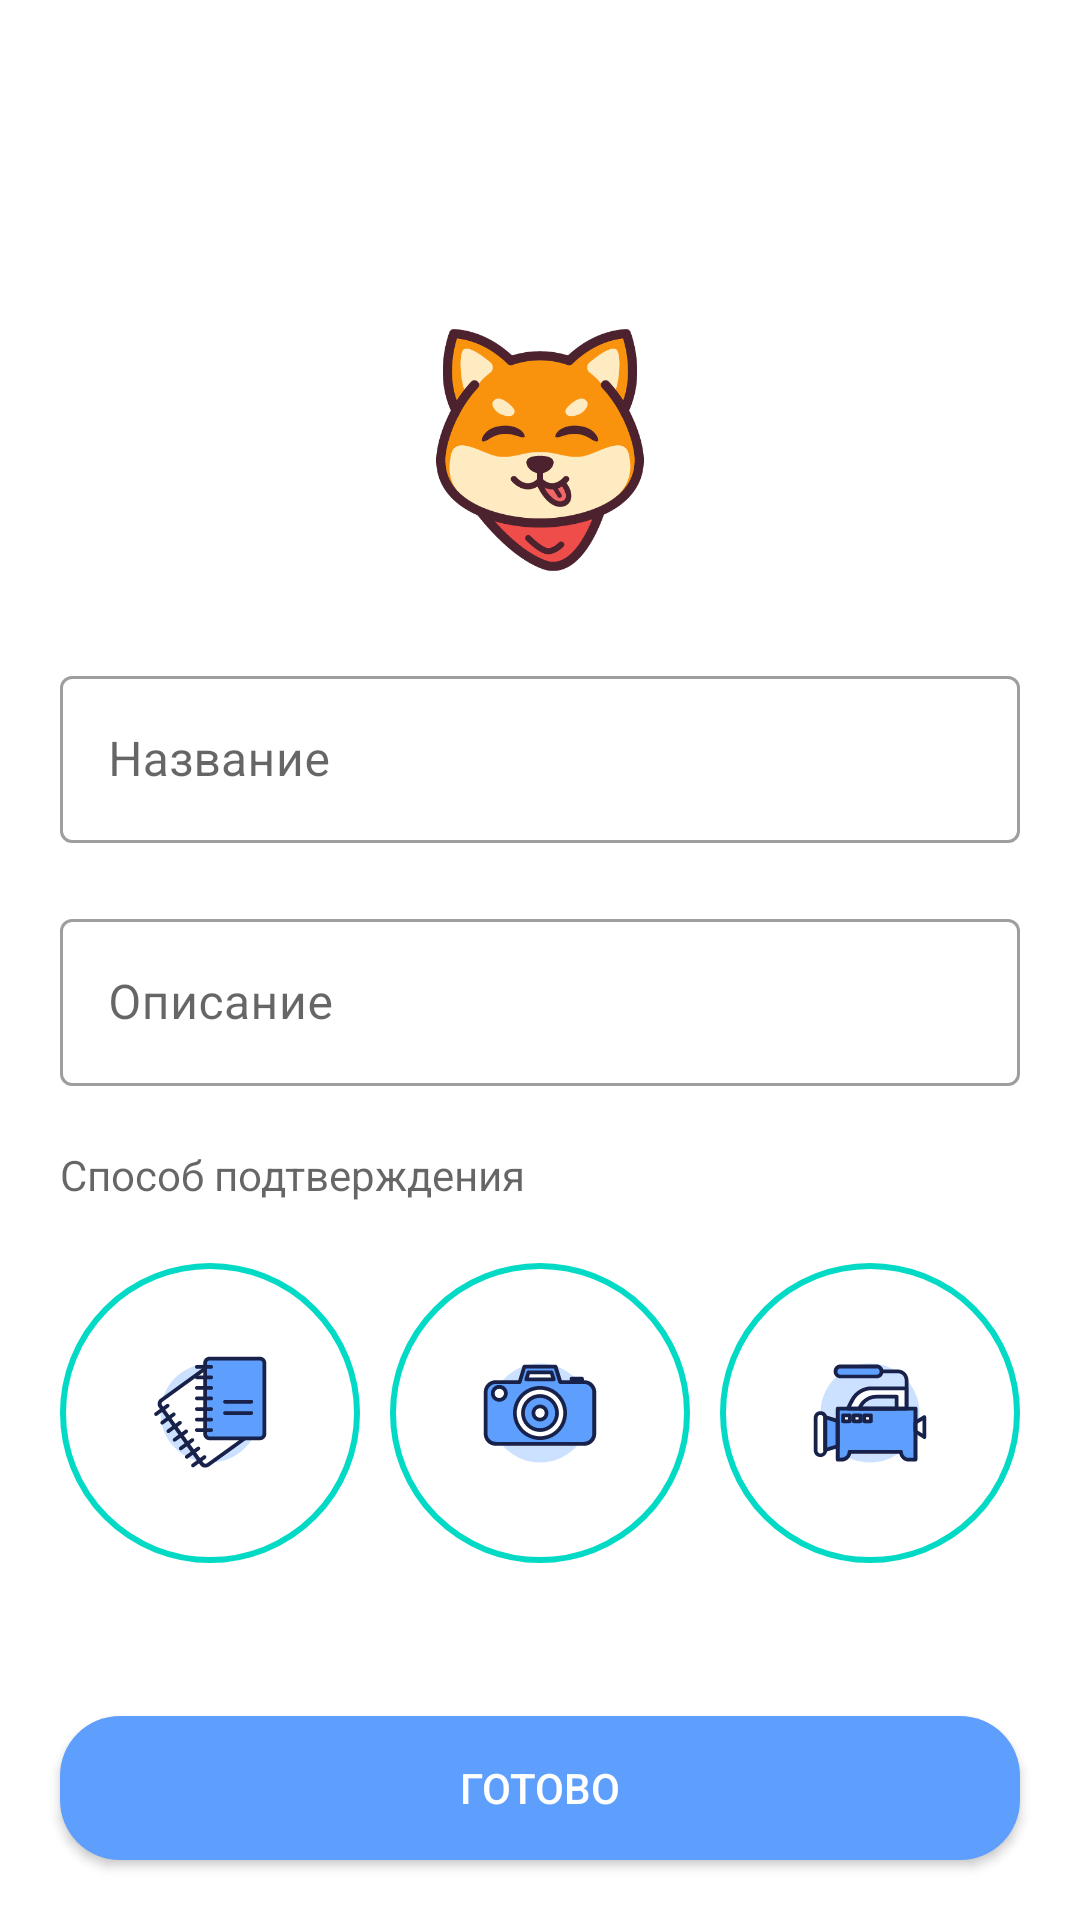

Icon click points for this 1080 x 1920 phone screenshot, format (x,y):
camera: (540,1413)
notebook: (210,1413)
shiba: (540,450)
videocamera: (870,1413)
